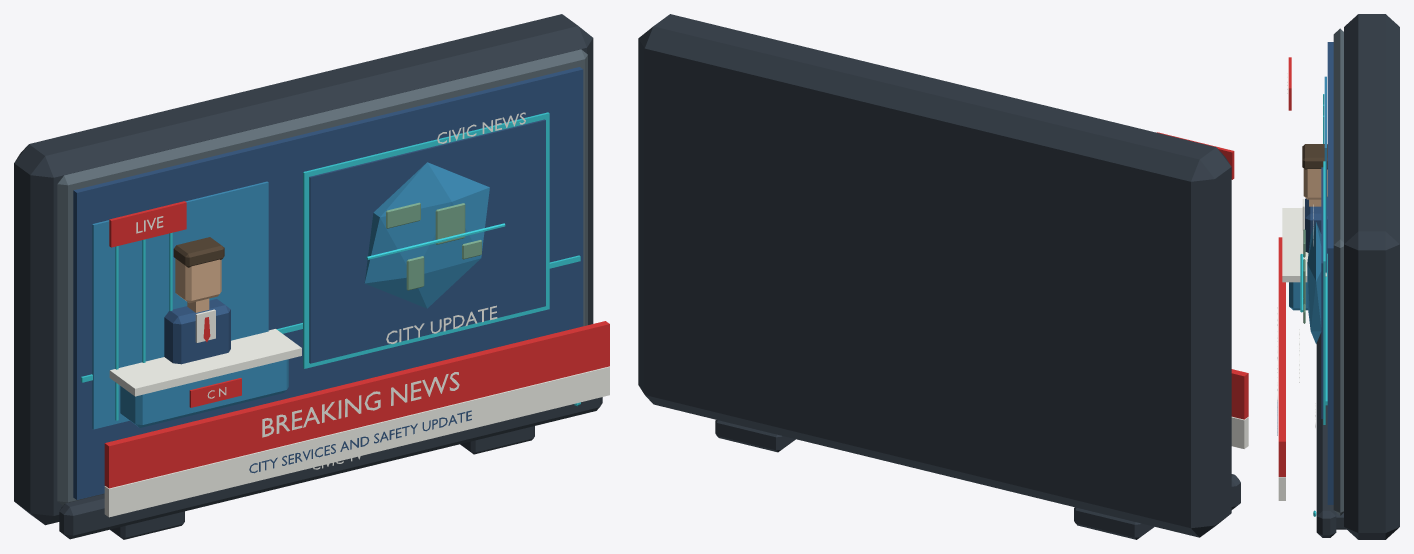
Rendered from TV_News_General.fbx.
The picture shows the model from 3 angles, left to right: view 1: azimuth 30°, elevation 25°; view 2: azimuth 150°, elevation 25°; view 3: azimuth 270°, elevation 25°; orthographic projection. The views are drawn at different scales.
Visible parts, largest first — view 1: Screen Background.012, TV Back Housing.012, Story Window.012, Breaking Lower Third.012, Studio Left Panel.012, Inner Screen Border.012, Hint Strip.012, World Map Globe.003, Lower Bezel.012, Desk Top.012, Story Border.012, Desk.012 (+10 smaller); view 2: TV Back Housing.012, TV Foot.025, TV Foot.024, Breaking Lower Third.012; view 3: TV Back Housing.012, Inner Screen Border.012, Screen Background.012, Lower Bezel.012, Breaking Lower Third.012, Desk Top.012, World Map Globe.003, Story Border.012, Story Window.012, Anchor Head.012, Anchor Jacket.012, Anchor Hair.012 (+6 smaller).
Boxes of the visible parts, box(x1,y1,x2,y2) form: Screen Background.012: box(73, 67, 583, 499); TV Back Housing.012: box(14, 14, 593, 525); Story Window.012: box(309, 119, 545, 363); Breaking Lower Third.012: box(104, 321, 609, 488); Studio Left Panel.012: box(92, 181, 268, 429); Inner Screen Border.012: box(57, 49, 587, 505); Hint Strip.012: box(104, 366, 609, 517); World Map Globe.003: box(364, 162, 489, 308); Lower Bezel.012: box(59, 397, 602, 539); Desk Top.012: box(109, 329, 301, 396); Story Border.012: box(303, 112, 549, 368); Desk.012: box(120, 359, 288, 427); TV Back Housing.012: box(638, 14, 1231, 537); TV Foot.025: box(715, 420, 795, 452); TV Foot.024: box(1074, 507, 1154, 539); Breaking Lower Third.012: box(1231, 369, 1248, 419); TV Back Housing.012: box(1344, 14, 1399, 539); Inner Screen Border.012: box(1333, 28, 1343, 515); Screen Background.012: box(1327, 42, 1333, 504); Lower Bezel.012: box(1316, 332, 1336, 537); Breaking Lower Third.012: box(1278, 237, 1285, 476); Desk Top.012: box(1282, 208, 1326, 282); World Map Globe.003: box(1307, 222, 1321, 343); Story Border.012: box(1323, 161, 1325, 424); Story Window.012: box(1321, 167, 1323, 418); Anchor Head.012: box(1303, 168, 1327, 199); Anchor Jacket.012: box(1305, 197, 1327, 253); Anchor Hair.012: box(1302, 144, 1327, 169).
Size of the model in its own units: 418 by 275 by 94.58.
